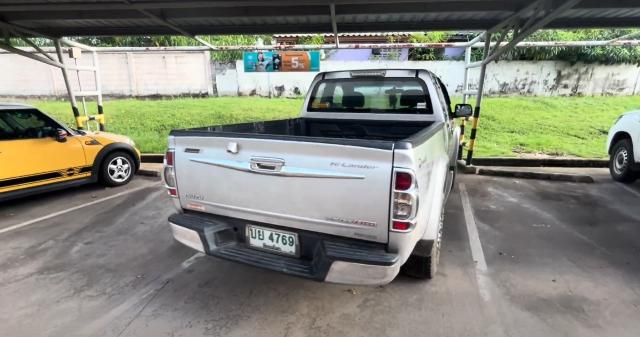pickup-truck: (162, 69, 472, 291)
